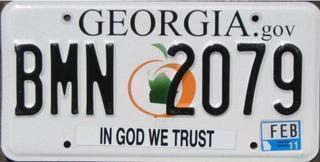placa de veiculo: (8, 1, 309, 157)
